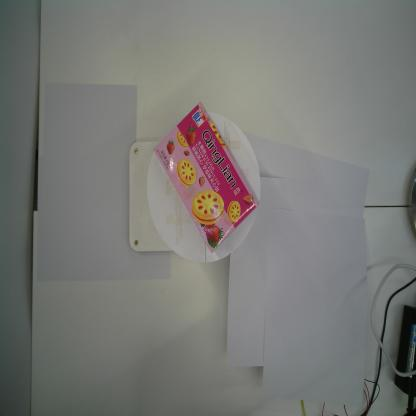Dessert: (153, 101, 259, 256)
